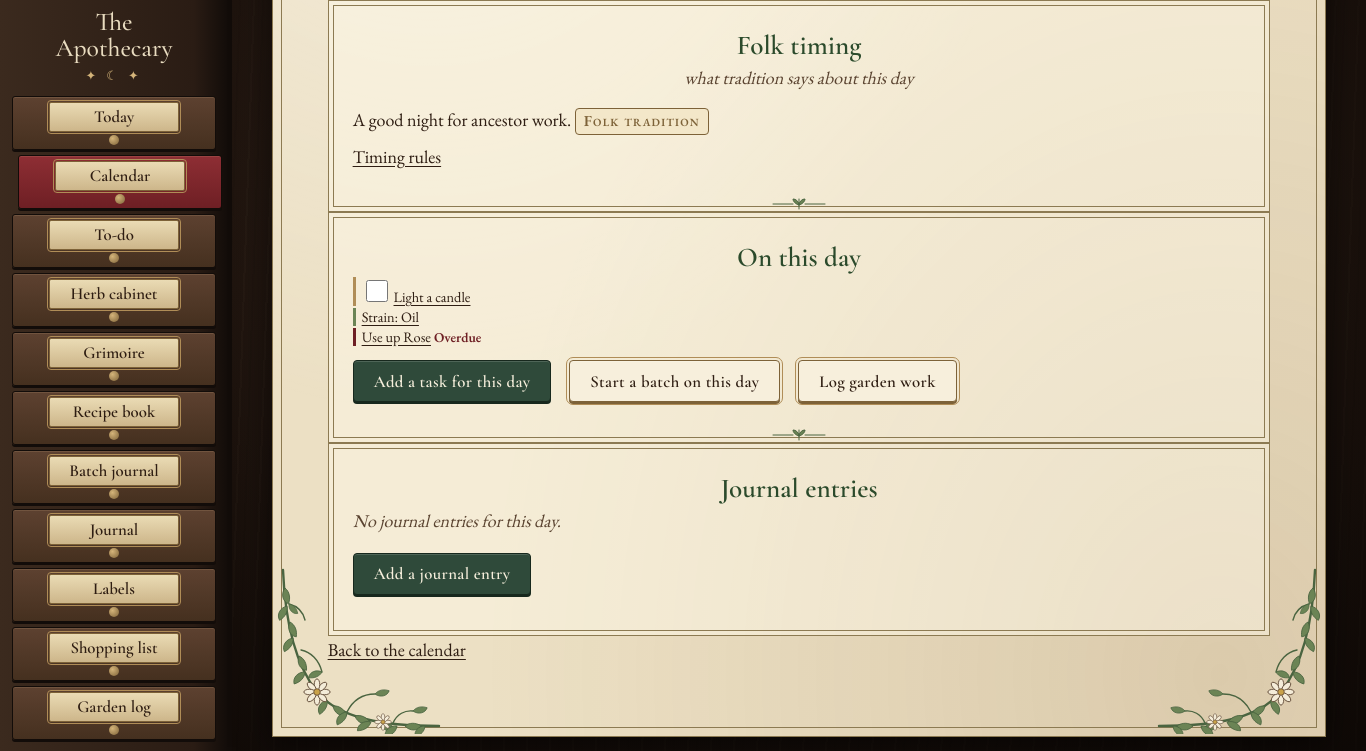
Test: opens the task form for this day
This screenshot has width=1366, height=751.
(page scrolled)
Click the link "Add a task for this day": [452, 381] box [353,360,551,402]
(page scrolled)
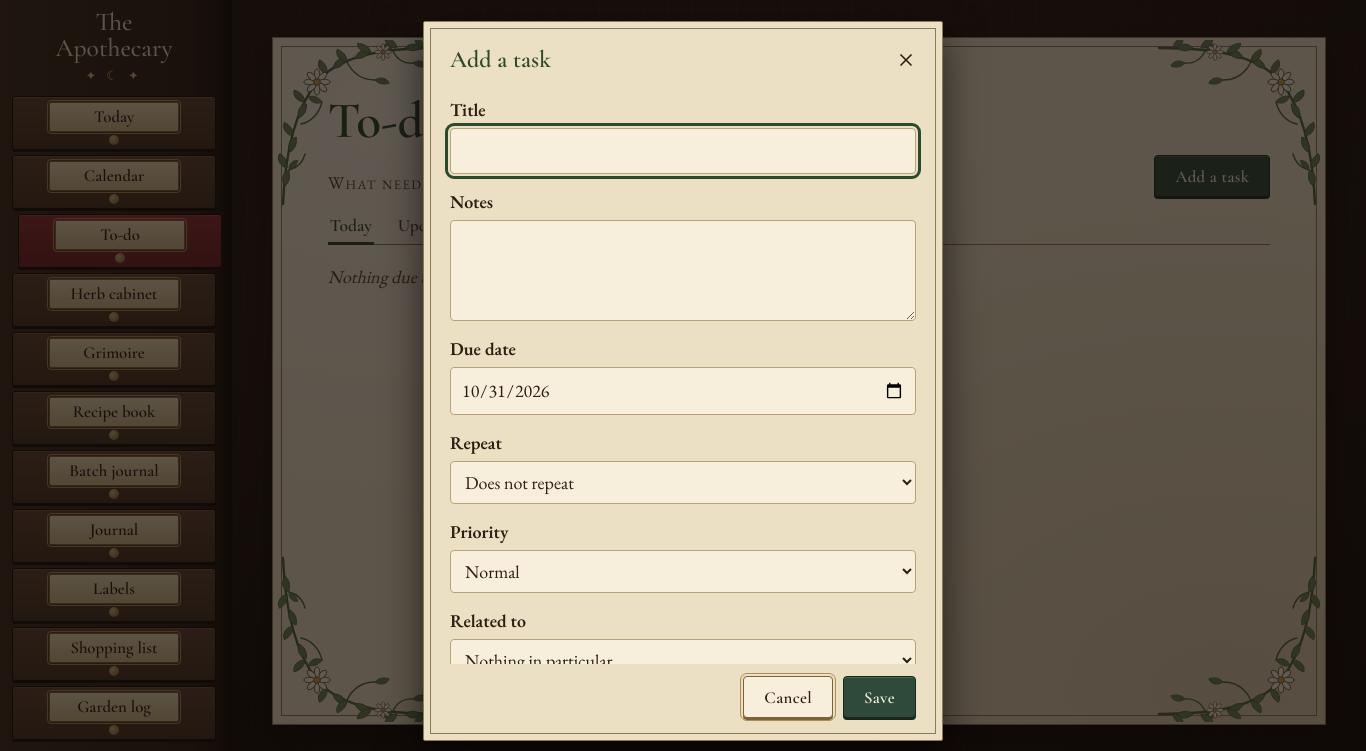
Now the date field labelled "Due date" holds "2026-10-31", box [450,367,916,415]
